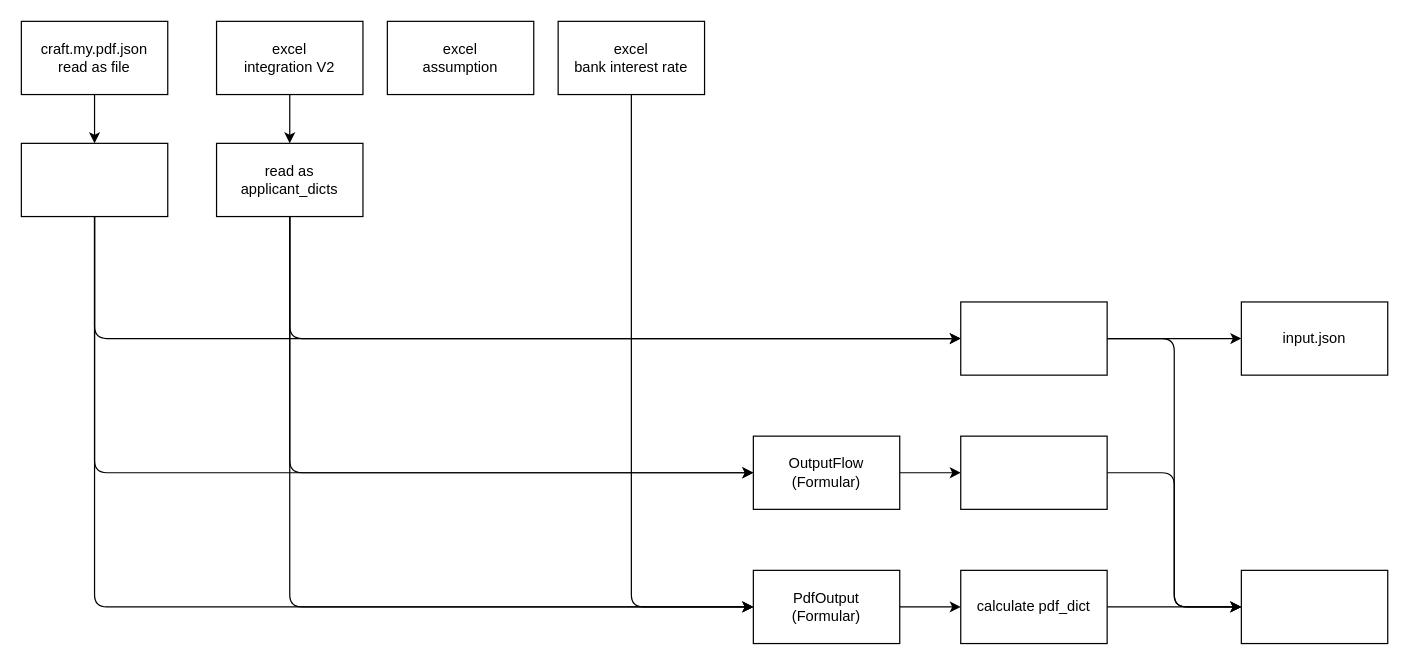
Some shapes in this 1409 by 665 pixel diagram are drawn without their labels. The shapes that lost their labels are listed below. From the top down, each one's box as (x1, y1, x2, y2) in pixels, then its label:
(20, 142, 168, 217): extract keys for calculation
(960, 301, 1107, 375): filtered as input_dict
(960, 435, 1107, 509): calculate flow_output_dict
(1240, 569, 1388, 644): output.json
